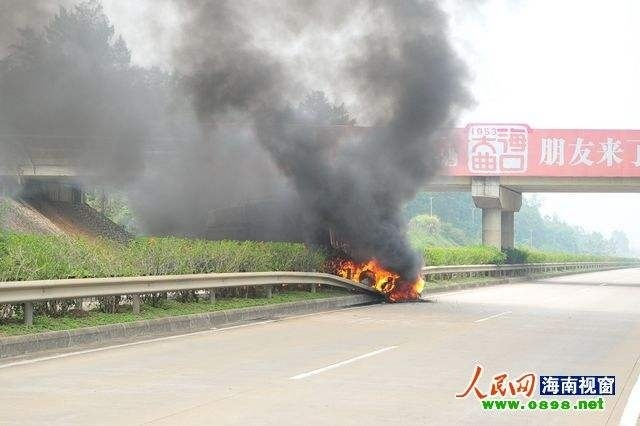fire: (334, 253, 429, 303)
